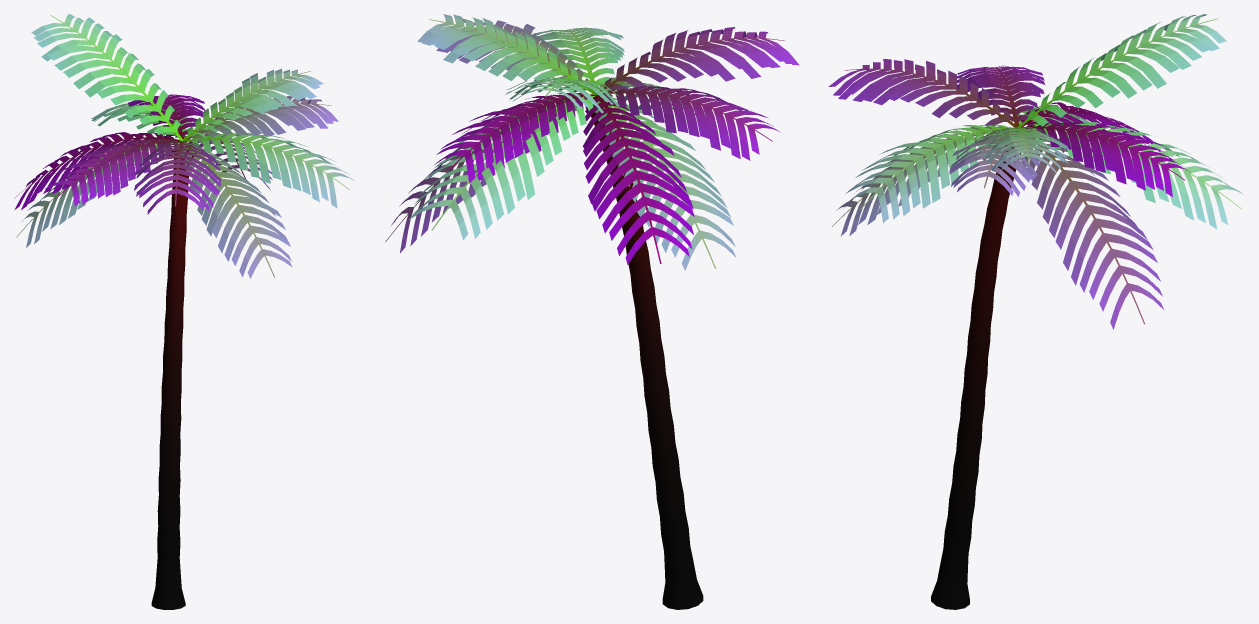
Rendered from Palm5.fbx.
The picture shows the model from 3 angles, left to right: view 1: azimuth 30°, elevation 25°; view 2: azimuth 150°, elevation 25°; view 3: azimuth 270°, elevation 25°; orthographic projection. The views are drawn at different scales.
Parts seen in each view (by area): view 1: Palm5; view 2: Palm5; view 3: Palm5.
Boxes of the visible parts, bbox=[...] form: Palm5: bbox=[14, 14, 355, 609]; Palm5: bbox=[385, 14, 799, 609]; Palm5: bbox=[828, 14, 1243, 609].
Bounding box in the file's own units: 7.77 × 13.66 × 8.85.
